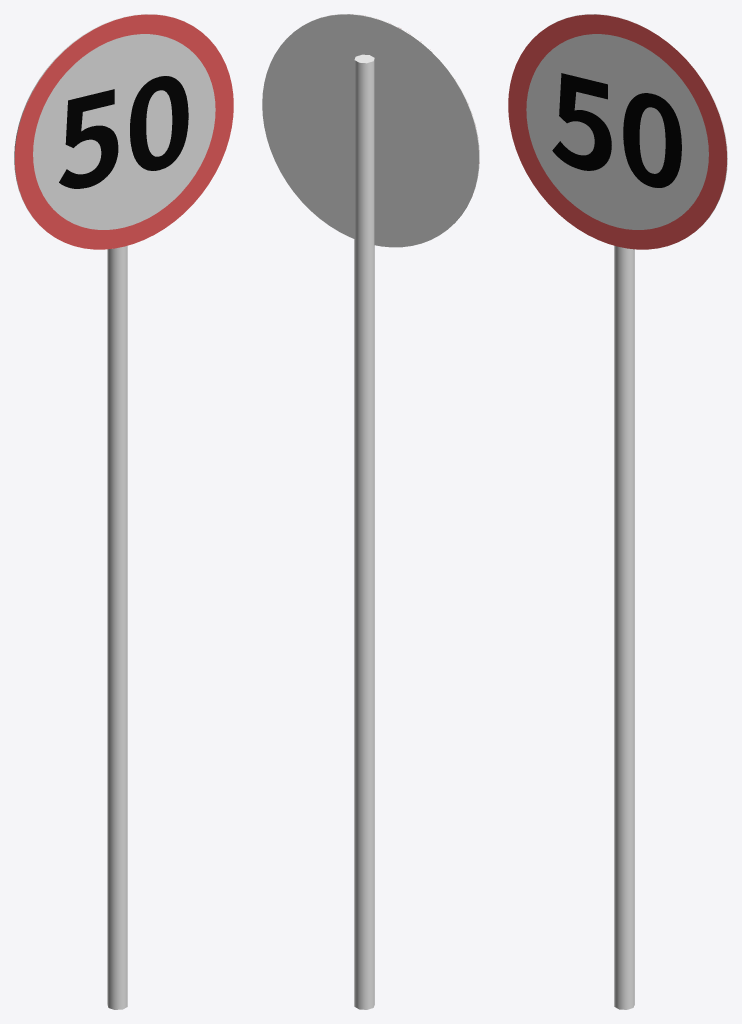
The picture shows the model from 3 angles, left to right: view 1: azimuth 30°, elevation 25°; view 2: azimuth 150°, elevation 25°; view 3: azimuth 330°, elevation 25°; orthographic projection.
Parts seen in each view (by area): view 1: P38; view 2: P38; view 3: P38.
Boxes of the visible parts, x1,y1,x2,y2 form: P38: [14, 14, 233, 1009]; P38: [262, 14, 479, 1009]; P38: [508, 14, 727, 1009].
Bounding box in the file's own units: 3.93 × 17.03 × 0.374.
